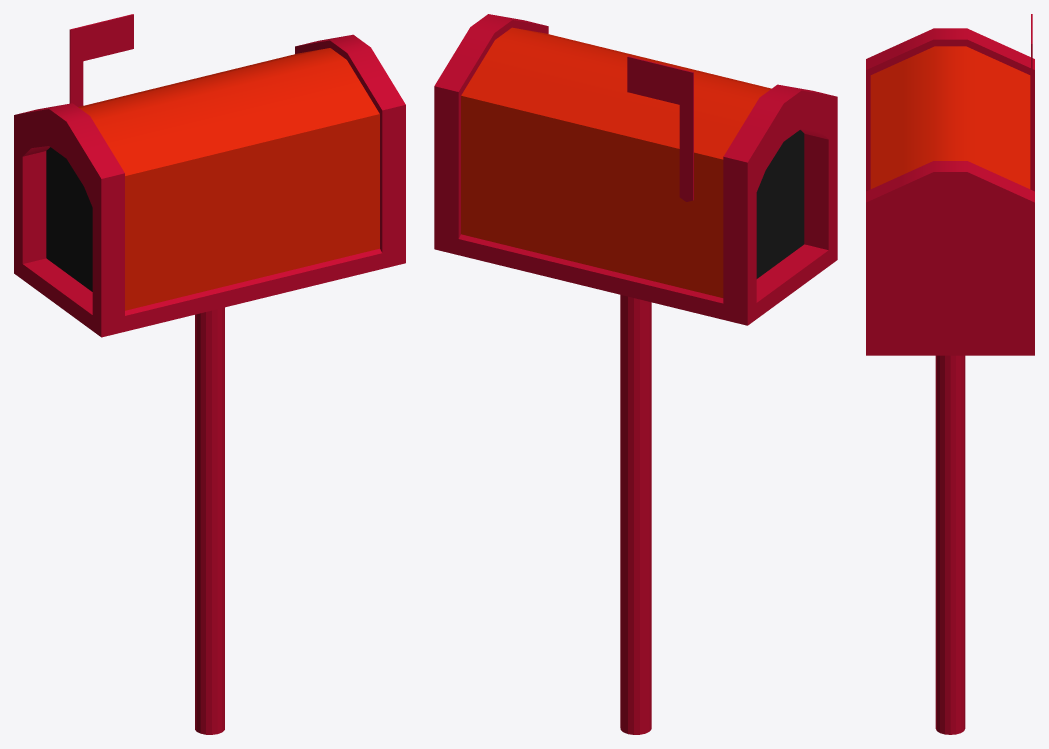
The model's file is Mailbox01.fbx.
The picture shows the model from 3 angles, left to right: view 1: azimuth 30°, elevation 25°; view 2: azimuth 150°, elevation 25°; view 3: azimuth 270°, elevation 25°; orthographic projection. The views are drawn at different scales.
Parts seen in each view (by area): view 1: Mailbox, Cube.002; view 2: Mailbox, Cube.002; view 3: Mailbox, Cube.002.
Part boxes in pixels (left/top/right/bottom): Mailbox: left=14, top=34, right=405, bottom=337; Cube.002: left=69, top=14, right=224, bottom=734; Mailbox: left=434, top=14, right=837, bottom=325; Cube.002: left=620, top=56, right=693, bottom=734; Mailbox: left=866, top=28, right=1034, bottom=355; Cube.002: left=935, top=14, right=1032, bottom=734.
Size of the model in its own units: 57.1 by 124 by 28.4.
